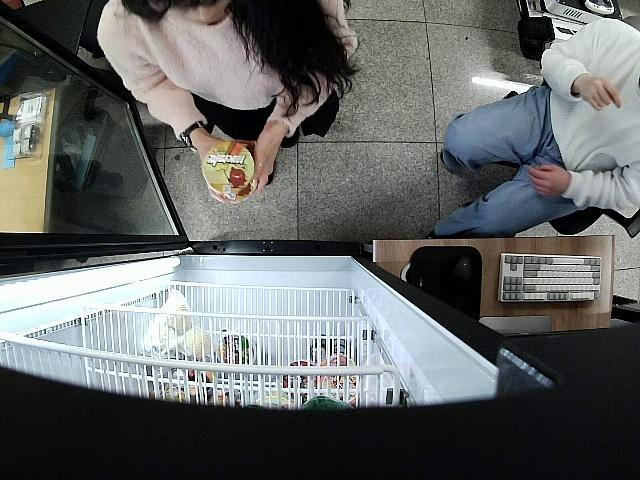04_chapagetti_S: (202, 142, 257, 194)
